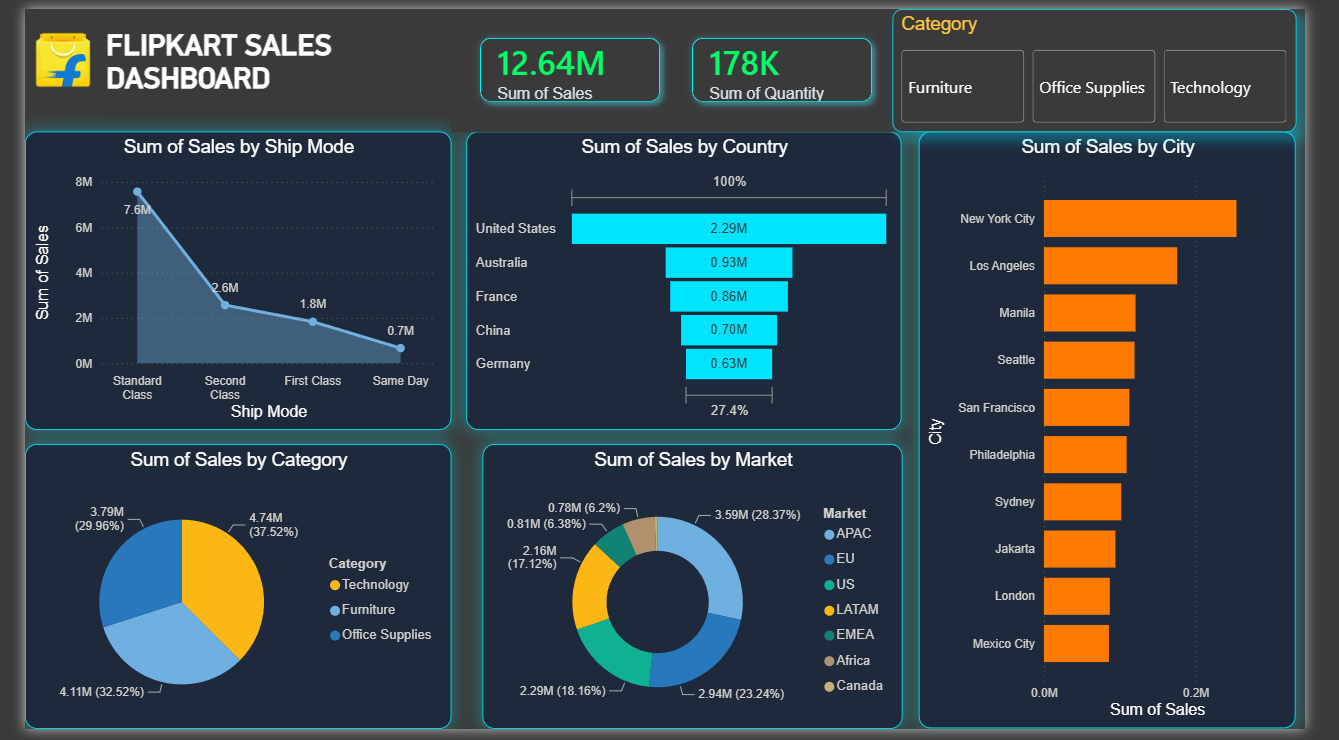

Layout of this report page (visuals, bound fields, positions):
{"tool":"powerbi","page":{"name":"Sales_Dashboard","canvas":[1280,720],"ordinal":0},"visuals":[{"type":"pieChart","fields":{"Category":["Orders.Category"],"Y":["Sum(Orders.Sales)"]},"box":[0,435.4,426.2,284.6],"z":0},{"type":"donutChart","fields":{"Category":["Orders.Market"],"Y":["Sum(Orders.Sales)"]},"box":[456.9,435.4,420,284.6],"z":1000},{"type":"clusteredBarChart","fields":{"Category":["Orders.City"],"Y":["Sum(Orders.Sales)"]},"box":[893.8,123.1,376.9,596.9],"z":2000},{"type":"areaChart","fields":{"Category":["Orders.Ship Mode"],"Y":["Sum(Orders.Sales)"]},"box":[0,123.1,426.2,298.5],"z":3000},{"type":"funnel","fields":{"Category":["Orders.Country"],"Y":["Sum(Orders.Sales)"]},"box":[441.5,123.1,435.4,298.5],"z":4000},{"type":"cardVisual","fields":{"Data":["Sum(Orders.Sales)","Sum(Orders.Quantity)"]},"box":[425.7,0,451.4,122.9],"z":5000},{"type":"advancedSlicerVisual","fields":{"Values":["Orders.Category"]},"box":[867.1,0,404.3,122.9],"z":6000},{"type":"textbox","box":[75.7,14.3,350,94.3],"z":7000},{"type":"image","box":[0,14.3,75.7,74.3],"z":7001}]}

Visuals, with their boxes in screenshot pixels (x1, y1, x2, y2), scaled from the page's 1280x720 canvas onto the 1339x740 screenshot:
pieChart - Orders.Category x Sum(Orders.Sales): pyautogui.locateOnScreen(0, 447, 446, 739)
donutChart - Orders.Market x Sum(Orders.Sales): pyautogui.locateOnScreen(478, 447, 917, 739)
clusteredBarChart - Orders.City x Sum(Orders.Sales): pyautogui.locateOnScreen(935, 127, 1329, 739)
areaChart - Orders.Ship Mode x Sum(Orders.Sales): pyautogui.locateOnScreen(0, 127, 446, 433)
funnel - Orders.Country x Sum(Orders.Sales): pyautogui.locateOnScreen(462, 127, 917, 433)
cardVisual - Sum(Orders.Sales) x Sum(Orders.Quantity): pyautogui.locateOnScreen(445, 0, 918, 126)
advancedSlicerVisual - Orders.Category: pyautogui.locateOnScreen(907, 0, 1330, 126)
textbox: pyautogui.locateOnScreen(79, 15, 445, 112)
image: pyautogui.locateOnScreen(0, 15, 79, 91)
